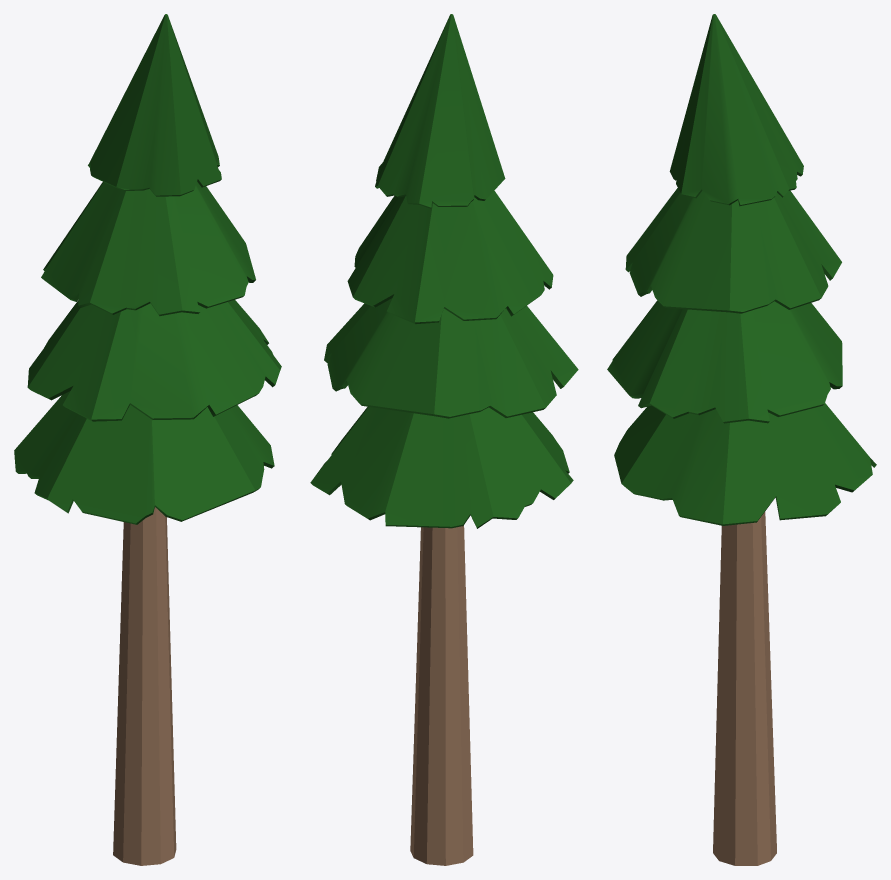
File: Pino2.fbx
The picture shows the model from 3 angles, left to right: view 1: azimuth 30°, elevation 25°; view 2: azimuth 150°, elevation 25°; view 3: azimuth 270°, elevation 25°; orthographic projection. The views are drawn at different scales.
Parts seen in each view (by area): view 1: SecondPine; view 2: SecondPine; view 3: SecondPine.
Part boxes in pixels (bbox=[...]): SecondPine: bbox=[14, 14, 281, 865]; SecondPine: bbox=[310, 14, 578, 865]; SecondPine: bbox=[607, 14, 876, 865].
Size of the model in its own units: 2349 by 8218 by 2388.
